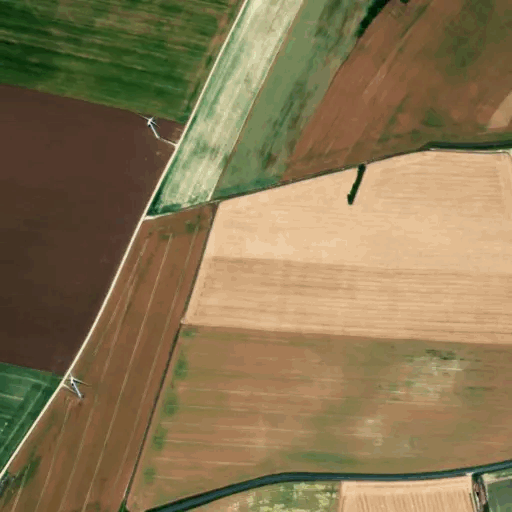wt: (133, 108, 169, 147), (61, 366, 87, 401)
